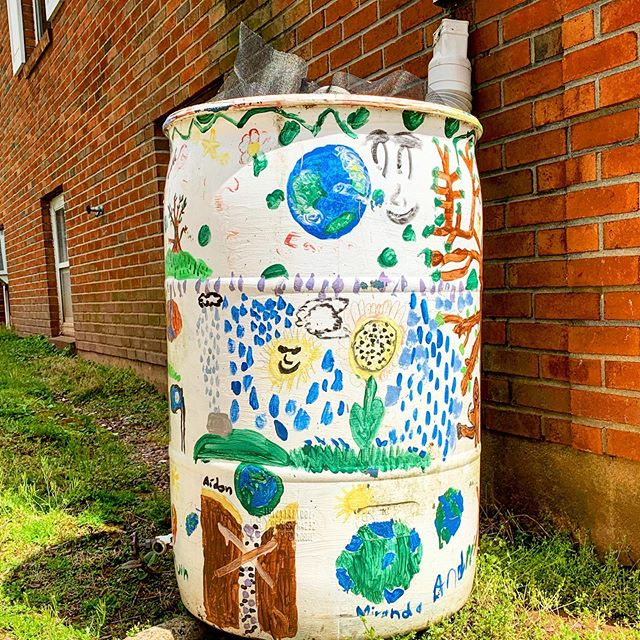barrell: (139, 103, 504, 640)
building: (1, 1, 640, 543)
graffiti: (164, 114, 483, 623)
